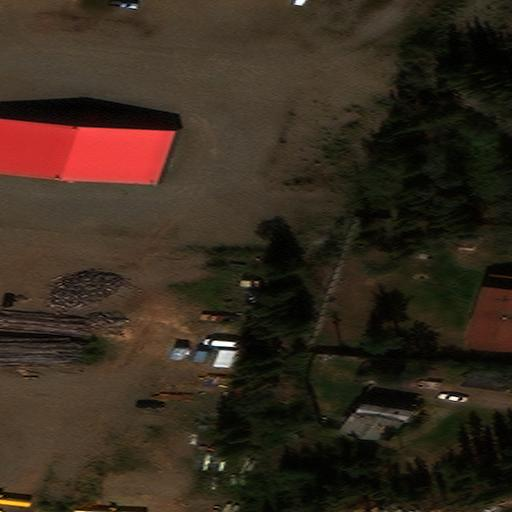Small Civil Transport: (0, 494, 31, 511), (74, 506, 135, 512)
